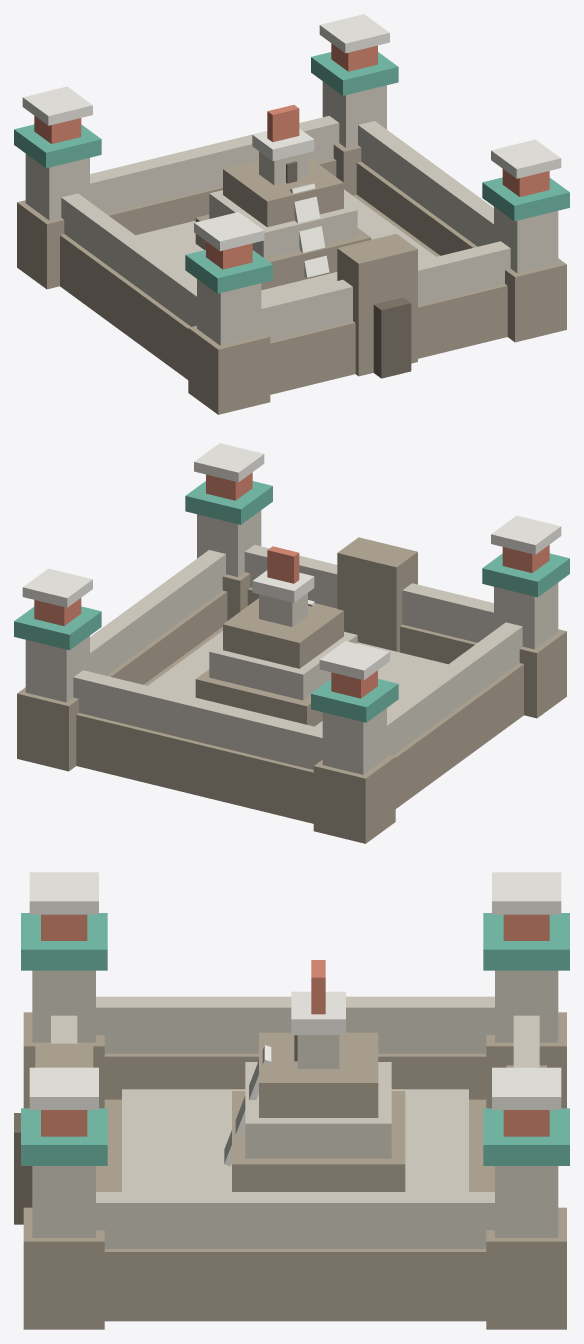
The model's file is fort.glb.
3 views of the same model, one above another, from view 1: azimuth 30°, elevation 25°; view 2: azimuth 150°, elevation 25°; view 3: azimuth 270°, elevation 25° (orthographic). The views are drawn at different scales.
Visible parts, largest first — view 1: mesoamerican_fort; view 2: mesoamerican_fort; view 3: mesoamerican_fort.
Part boxes in pixels (x1,y1,x2,y2): mesoamerican_fort: (14, 14, 569, 414); mesoamerican_fort: (14, 443, 569, 843); mesoamerican_fort: (14, 872, 569, 1329).
Size of the model in its own units: 0.95 by 0.47 by 0.962.
